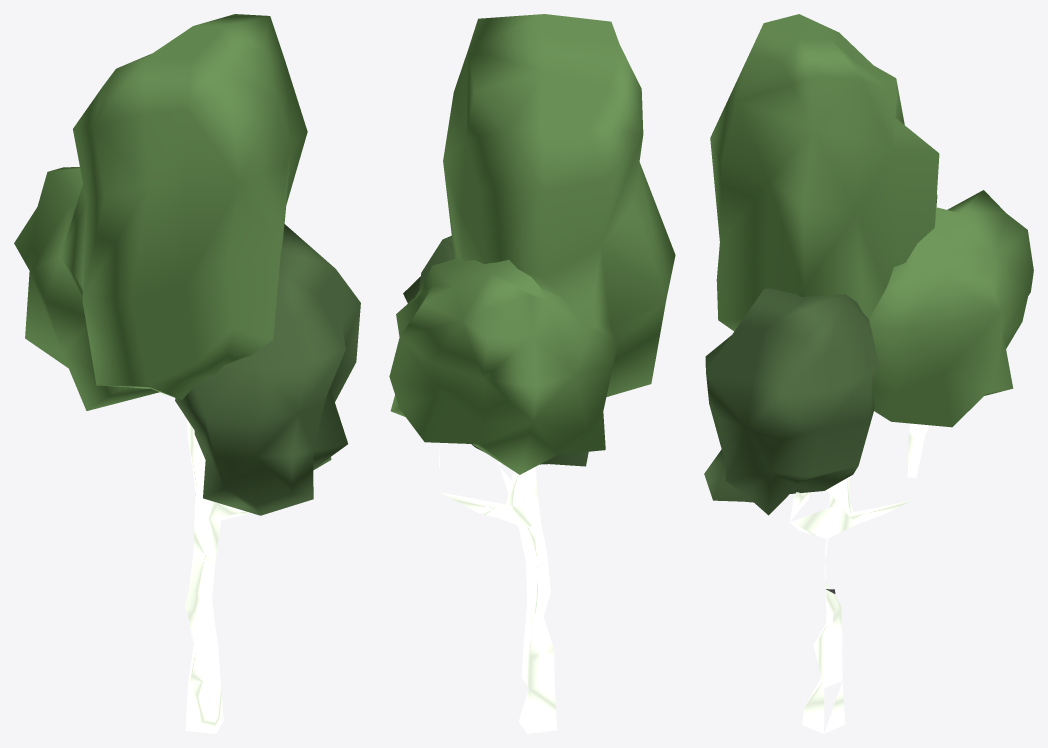
The model's file is BirchTree_3_lod.glb.
The picture shows the model from 3 angles, left to right: view 1: azimuth 30°, elevation 25°; view 2: azimuth 150°, elevation 25°; view 3: azimuth 270°, elevation 25°; orthographic projection. The views are drawn at different scales.
Visible parts, largest first — view 1: BirchTree_3; view 2: BirchTree_3; view 3: BirchTree_3.
Part boxes in pixels (bbox=[...]): BirchTree_3: bbox=[14, 14, 360, 733]; BirchTree_3: bbox=[389, 14, 675, 733]; BirchTree_3: bbox=[704, 14, 1033, 733].
Bounding box in the file's own units: 157 × 408 × 177.
